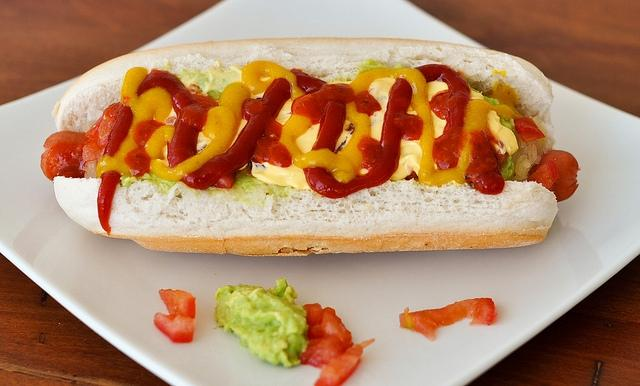tomato: (400, 298, 498, 340), (313, 338, 376, 384), (154, 289, 197, 343), (82, 102, 120, 162), (301, 334, 344, 371), (317, 311, 352, 353), (527, 160, 559, 190), (514, 117, 546, 142)
